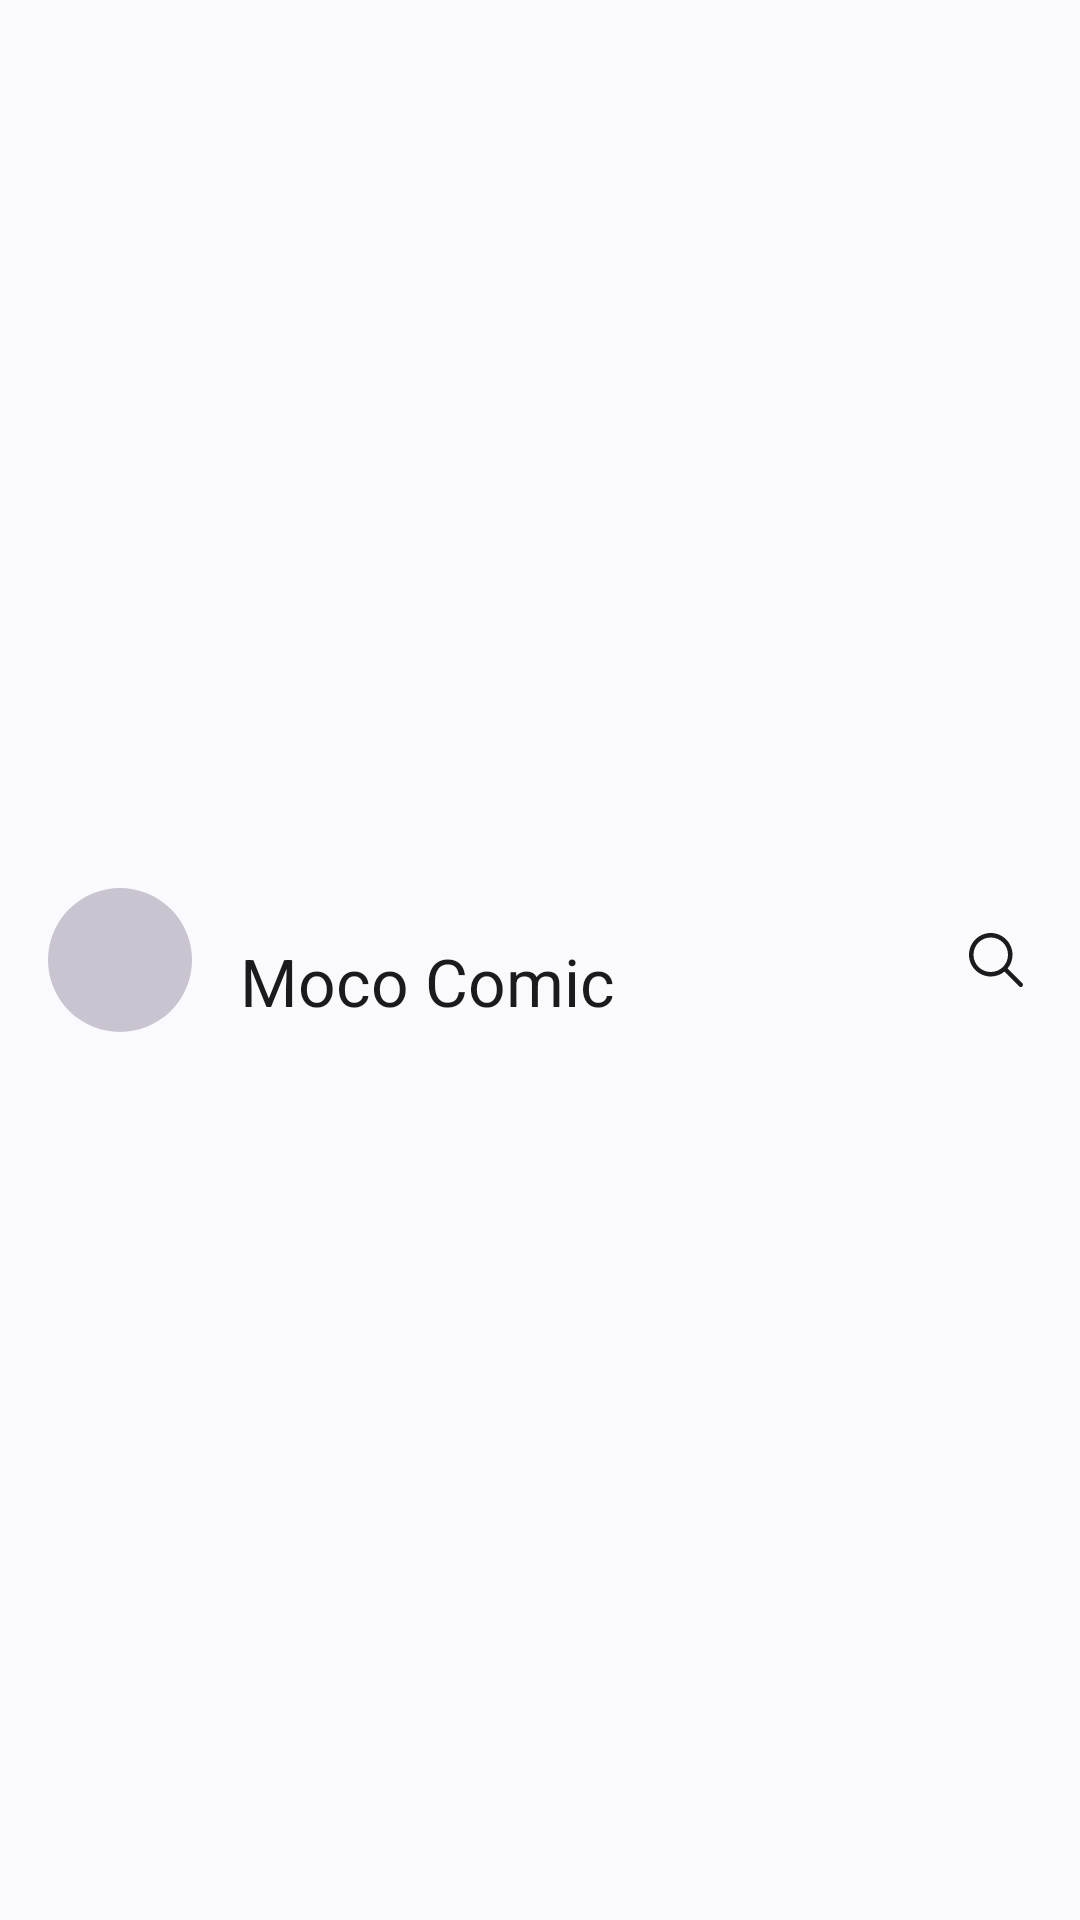

Screen size 1080*1920. Icon name, then its center in pixels as (x,y):
search: (996,960)
